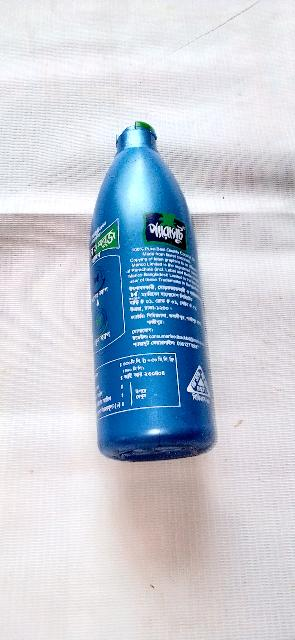bottle: (92, 124, 211, 456)
